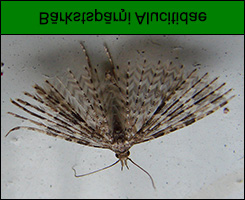Alucitidae: (4, 37, 232, 185)
moth: (6, 39, 234, 187)
